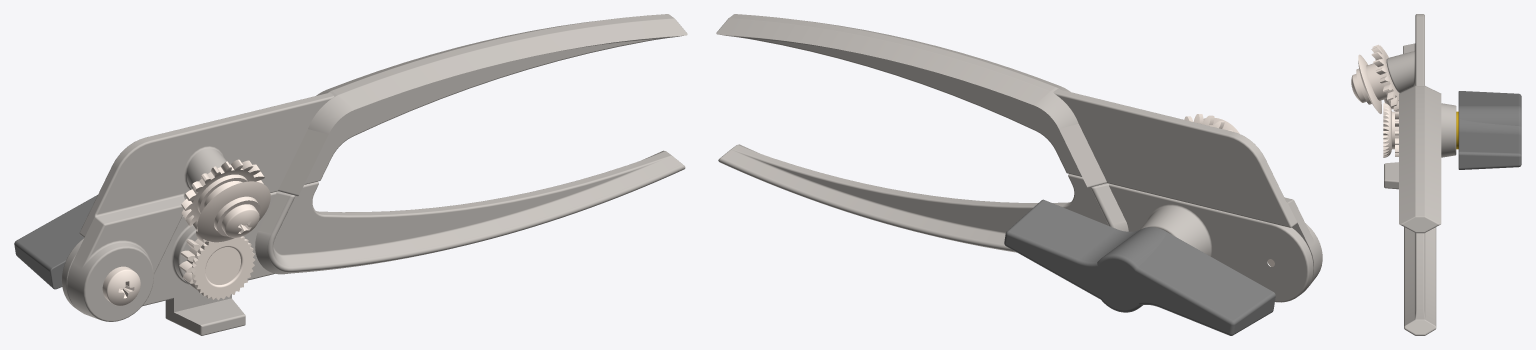
Rendered from can-opener.glb.
3 views of the same model, side by side, from view 1: azimuth 30°, elevation 25°; view 2: azimuth 150°, elevation 25°; view 3: azimuth 270°, elevation 25° (orthographic). The views are drawn at different scales.
Parts seen in each view (by area): view 1: Handle 2-1, Handle 1-1, Gear 1-1, Gear 2-1, Rotating Knob-1, pan head cross recess screw_iso-2, pan head cross recess screw_iso-1; view 2: Handle 2-1, Handle 1-1, Rotating Knob-1; view 3: Handle 2-1, Rotating Knob-1, Handle 1-1, Gear 1-1, Gear 2-1, pan head cross recess screw_iso-1.
Boxes of the visible parts, x1,y1,x2,y2 form: Handle 2-1: (67,14,687,321); Handle 1-1: (61,150,685,335); Gear 1-1: (181,159,270,242); Gear 2-1: (179,230,255,300); Rotating Knob-1: (14,195,97,289); pan head cross recess screw_iso-2: (102,266,140,305); pan head cross recess screw_iso-1: (221,204,259,237); Handle 2-1: (716,14,1322,289); Handle 1-1: (718,144,1313,302); Rotating Knob-1: (1004,199,1275,335); Handle 2-1: (1386,14,1441,233); Rotating Knob-1: (1458,91,1521,169); Handle 1-1: (1384,103,1456,335); Gear 1-1: (1356,44,1399,113); Gear 2-1: (1383,103,1398,157); pan head cross recess screw_iso-1: (1351,74,1366,102).
Size of the model in its own units: 0.1732 by 0.0536 by 0.0541.
